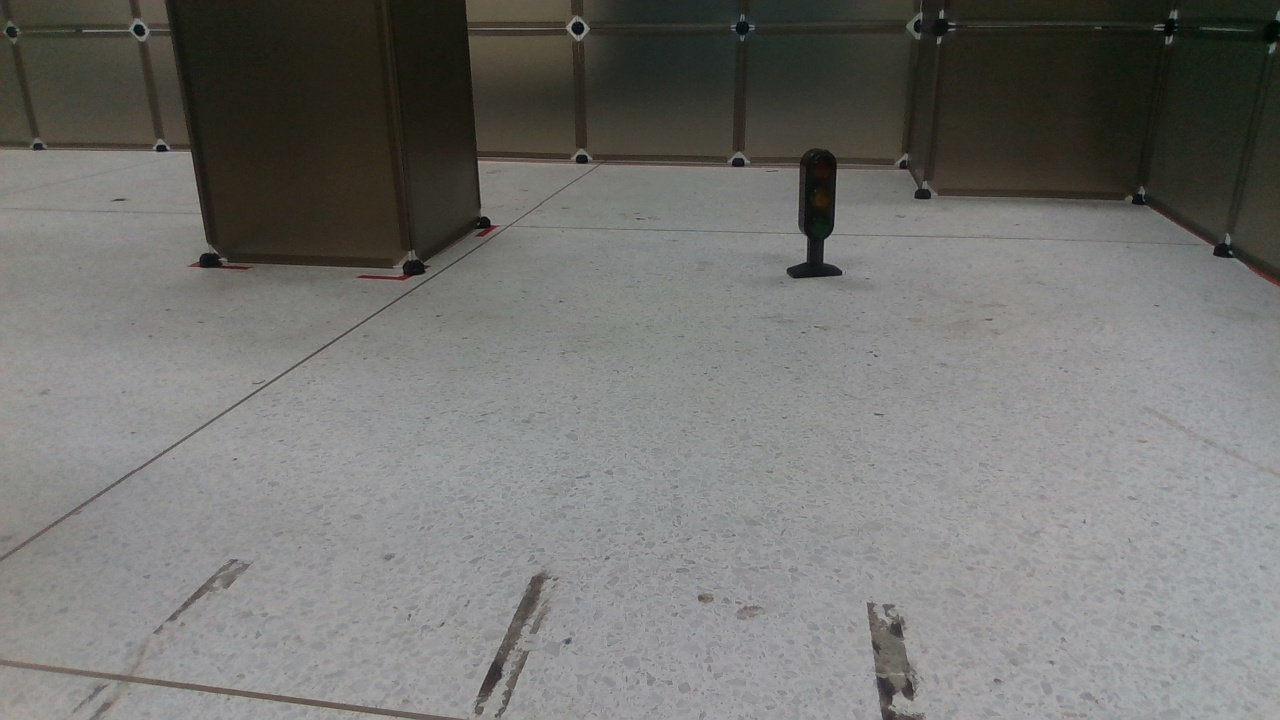Dim traffic light: (785, 147, 846, 283)
